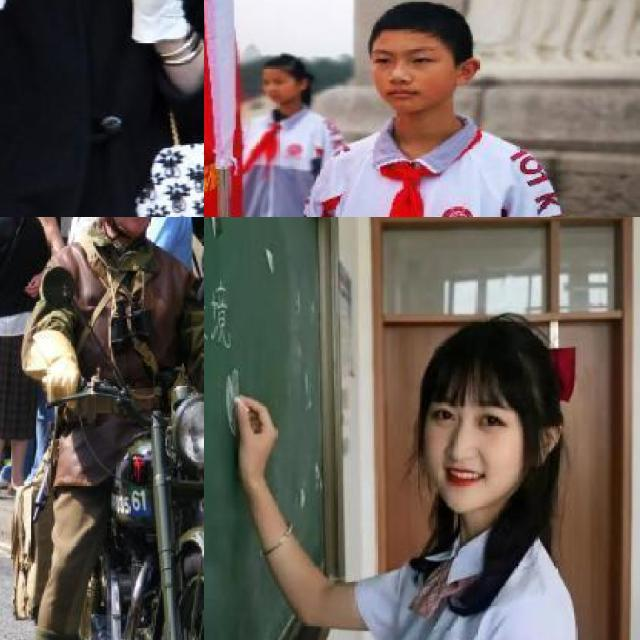face_nomask: (409, 396, 534, 510), (367, 39, 448, 123), (257, 69, 293, 102), (118, 217, 156, 227)
hand_glove: (31, 353, 86, 405)
hand_noglove: (231, 392, 278, 492), (24, 273, 44, 297)
head_nohelmet: (406, 317, 565, 402), (356, 0, 470, 49), (255, 54, 298, 74)
person: (204, 314, 580, 640), (43, 217, 186, 640), (314, 0, 540, 217), (0, 0, 204, 217), (212, 52, 334, 217), (0, 217, 33, 503)
